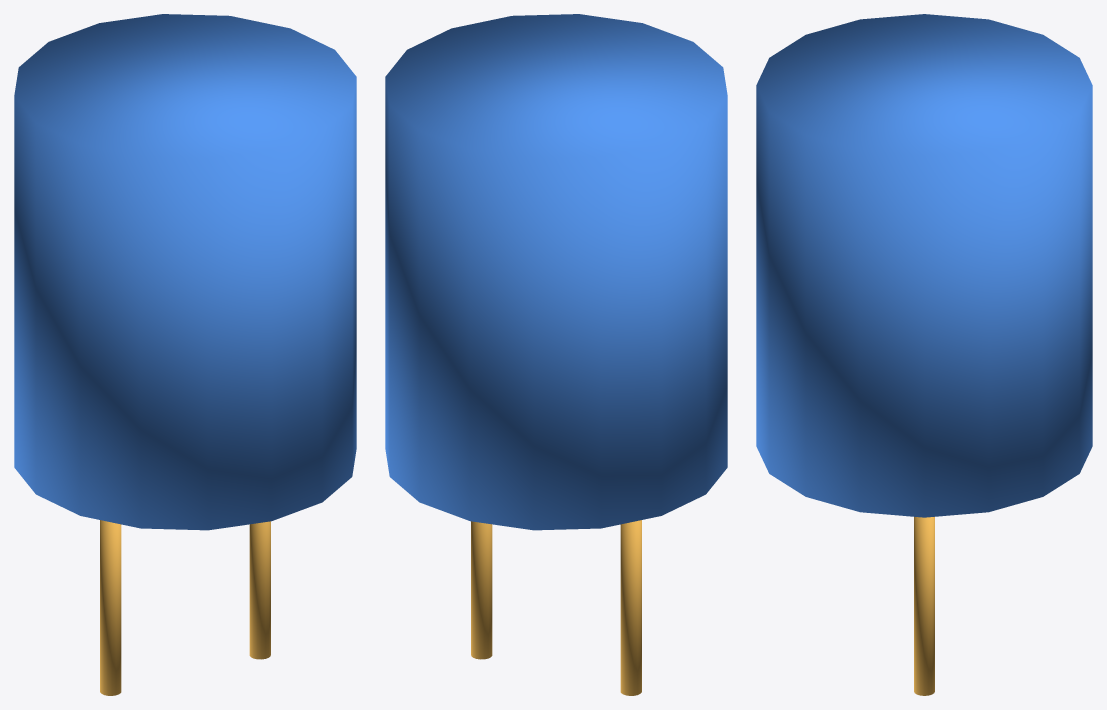
Rendered from capacitor-lite.glb.
The picture shows the model from 3 angles, left to right: view 1: azimuth 30°, elevation 25°; view 2: azimuth 150°, elevation 25°; view 3: azimuth 270°, elevation 25°; orthographic projection. The views are drawn at different scales.
Visible parts, largest first — view 1: Capacitor body; view 2: Capacitor body; view 3: Capacitor body.
Boxes of the visible parts, x1=… form: Capacitor body: x1=14, y1=14, x2=356, y2=695; Capacitor body: x1=385, y1=14, x2=727, y2=695; Capacitor body: x1=756, y1=14, x2=1092, y2=695.
Size of the model in its own units: 0.8 by 1.5 by 0.8.
